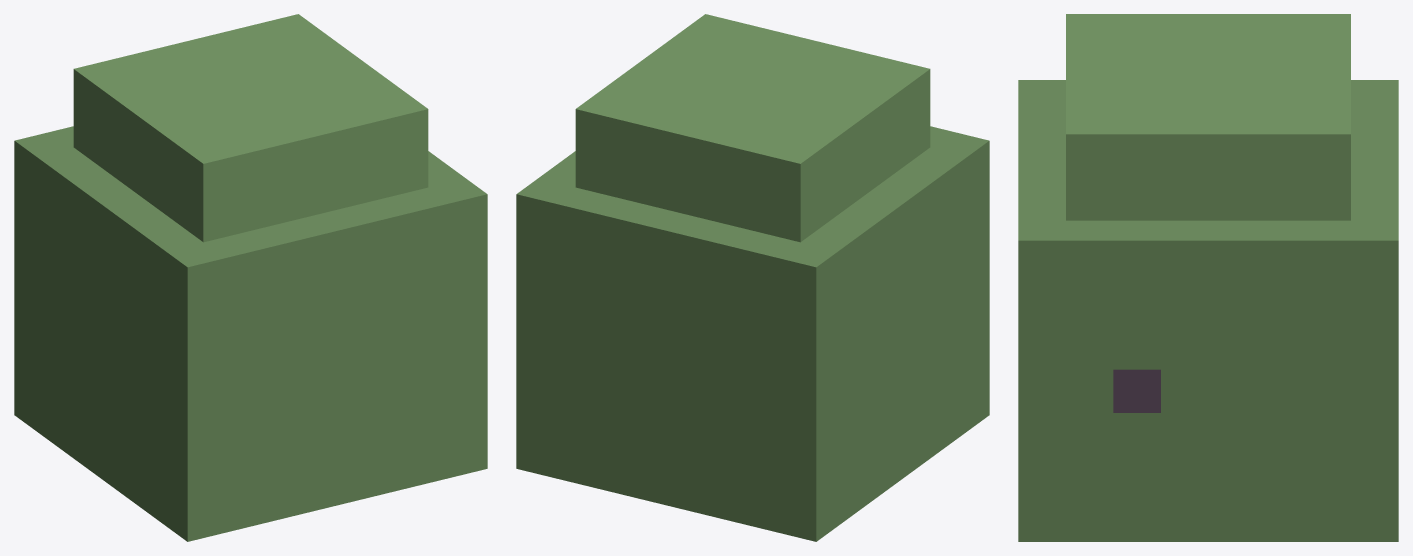
File: grosella_negra_03.glb
3 renders of one model, left to right at view 1: azimuth 30°, elevation 25°; view 2: azimuth 150°, elevation 25°; view 3: azimuth 270°, elevation 25°, orthographic. The views are drawn at different scales.
Visible parts, largest first — view 1: grosella_negra_03; view 2: grosella_negra_03; view 3: grosella_negra_03.
Boxes of the visible parts, box(x1,y1,x2,y2) form: grosella_negra_03: box(14, 14, 487, 541); grosella_negra_03: box(516, 14, 989, 541); grosella_negra_03: box(1018, 14, 1398, 541).
Bounding box in the file's own units: 0.8 × 0.9 × 0.8.
